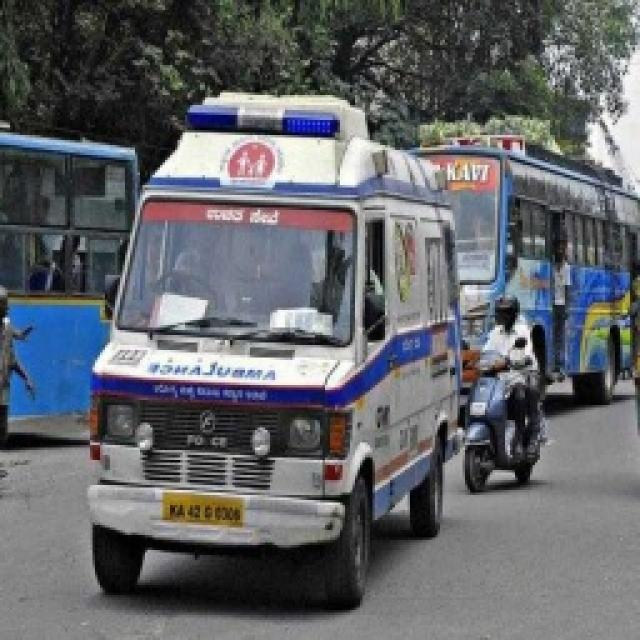emergency-vehicle: (75, 97, 488, 616)
